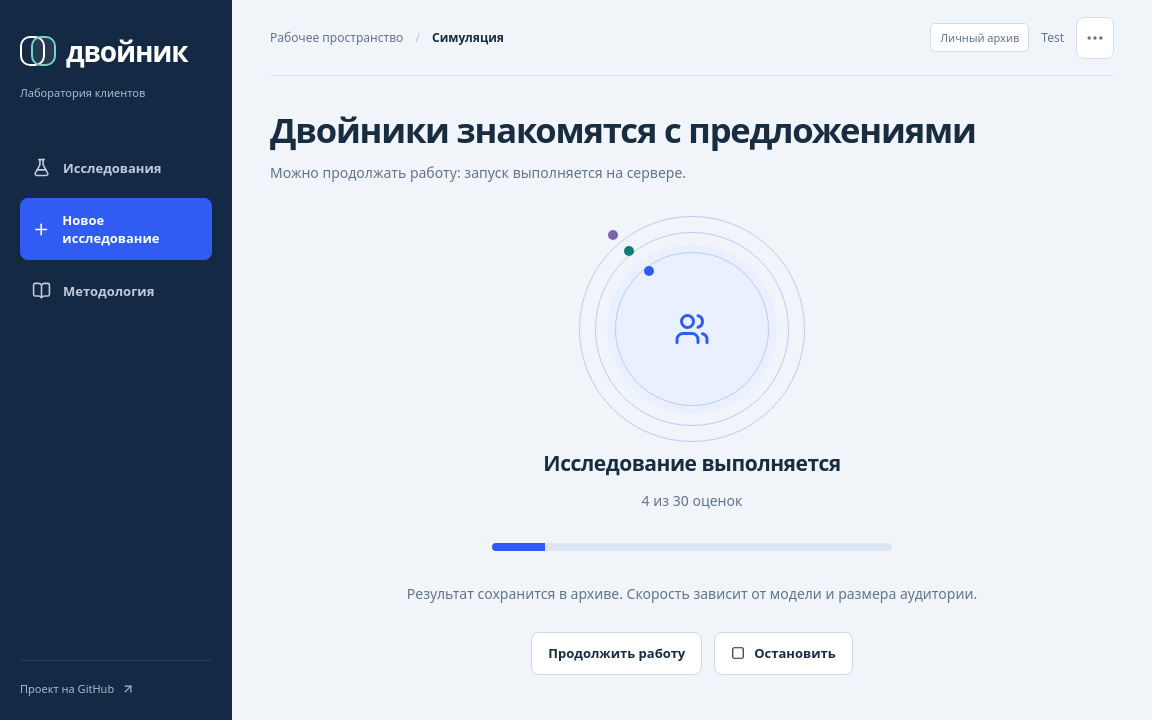
Scenario: workspace retains a successful cancellation acknowledgement when the following poll fails
Click the button "Остановить". click: (784, 653)
box: [714,632,853,675]
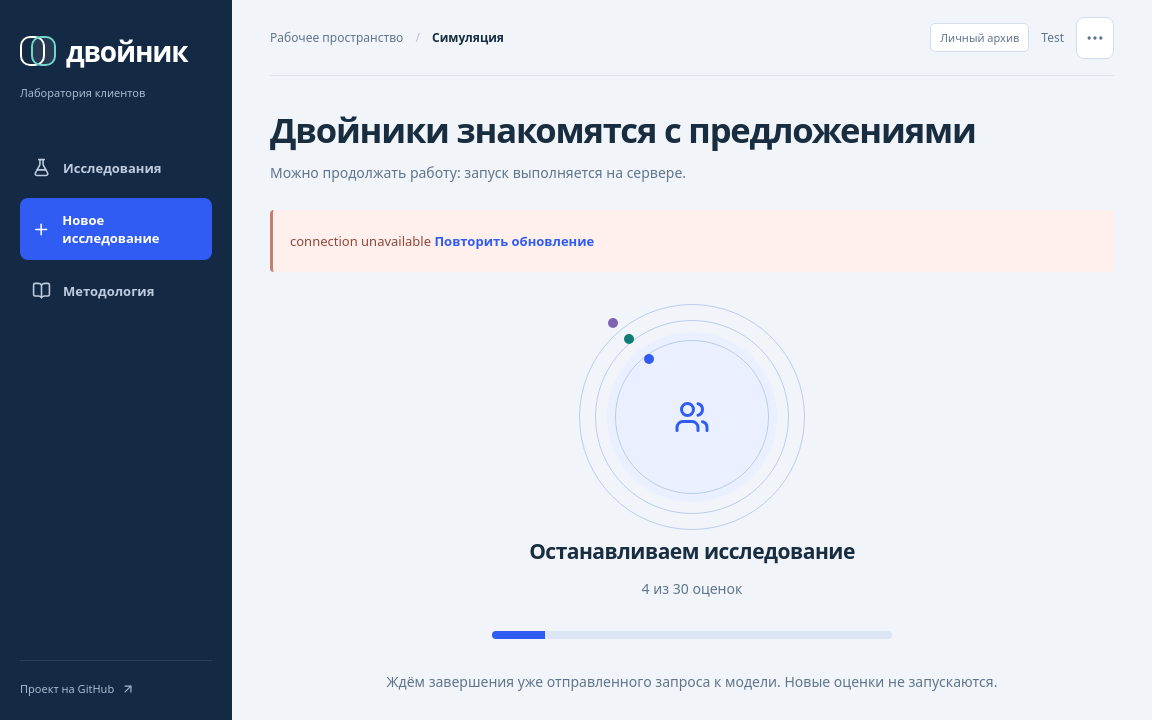
Now the heading "Останавливаем исследование" is shown, box [529,537,855,565]
Now the text "connection unavailable" is shown, box [290,232,431,250]
